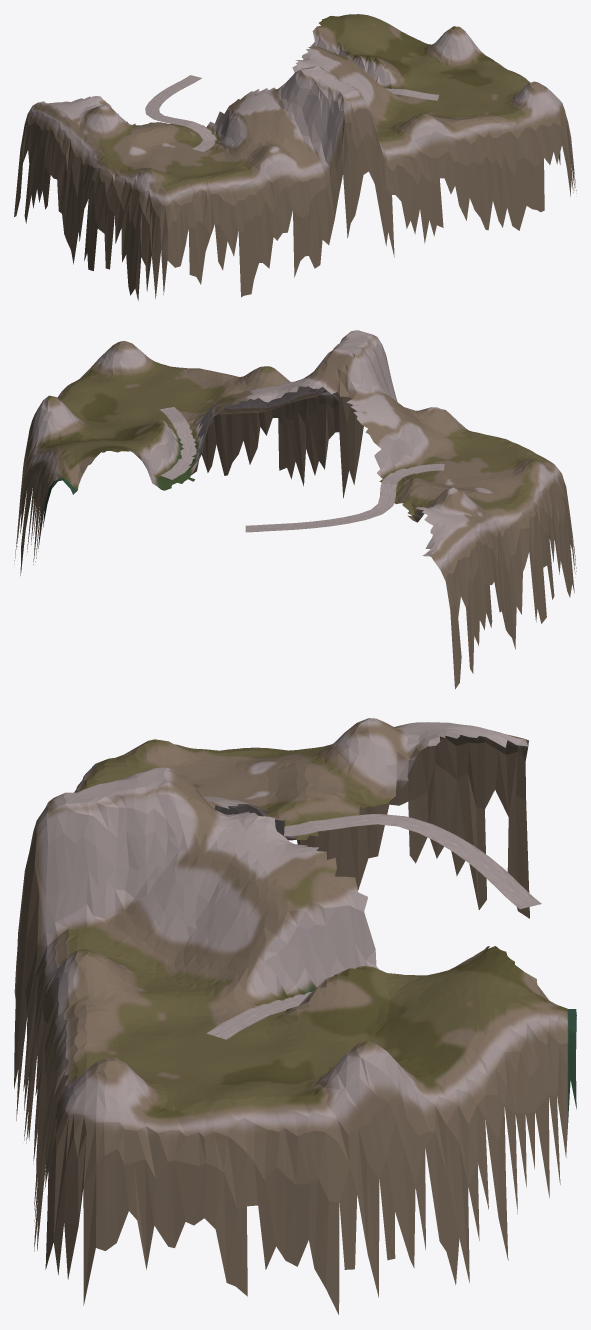
The model's file is Fortress_ext.glb.
The picture shows the model from 3 angles, top to bottom: view 1: azimuth 30°, elevation 25°; view 2: azimuth 150°, elevation 25°; view 3: azimuth 270°, elevation 25°; orthographic projection. The views are drawn at different scales.
Visible parts, largest first — view 1: Ground_ext, Road_ext; view 2: Ground_ext, Road_ext; view 3: Ground_ext, Road_ext.
Part boxes in pixels (x1=…): Ground_ext: x1=14, y1=14, x2=576, y2=300; Road_ext: x1=145, y1=75, x2=439, y2=151; Ground_ext: x1=14, y1=330, x2=576, y2=689; Road_ext: x1=160, y1=407, x2=444, y2=532; Ground_ext: x1=14, y1=718, x2=576, y2=1314; Road_ext: x1=206, y1=814, x2=541, y2=1039.
Size of the model in its own units: 139 by 54.63 by 84.19.
2 materials, 2 textured.
